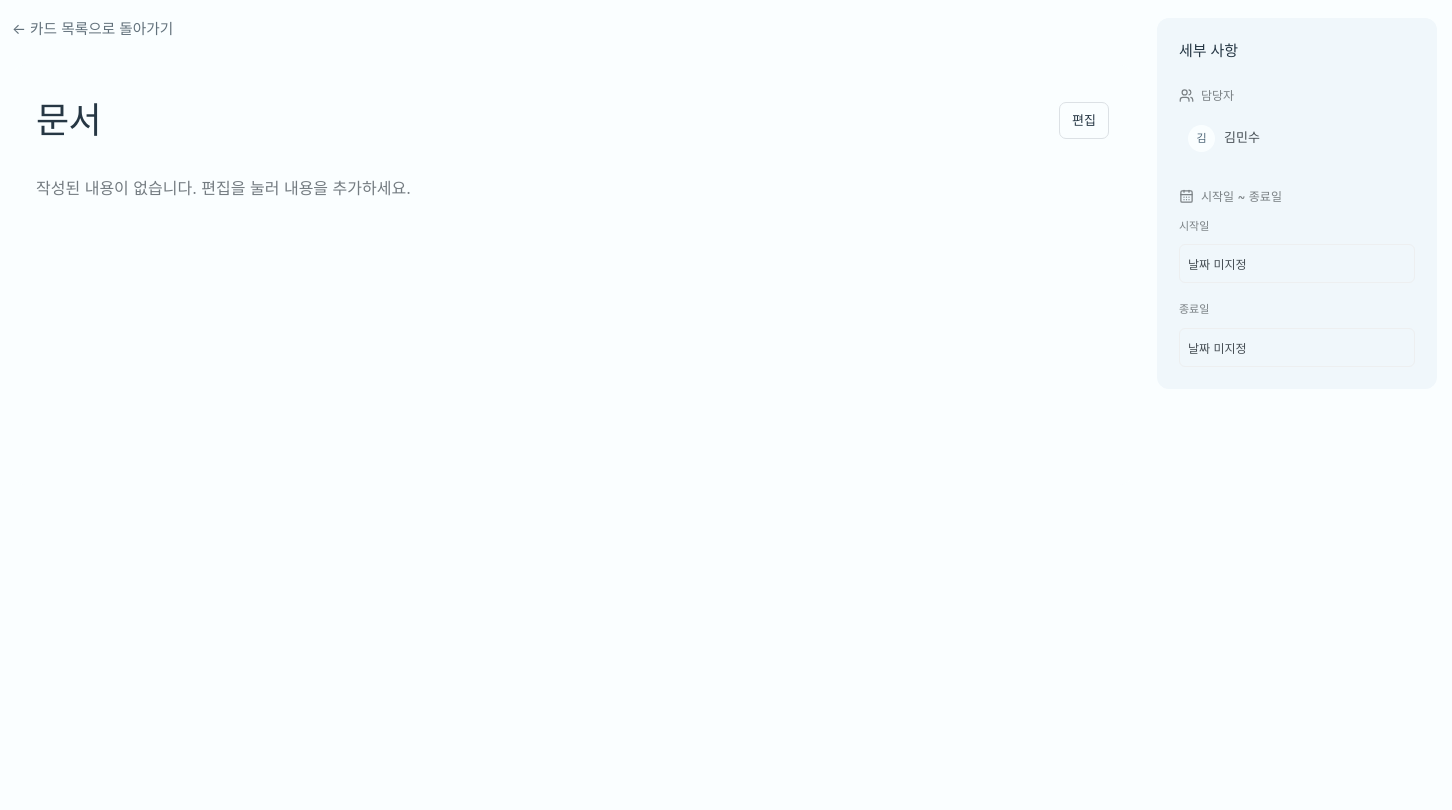
Test: markdown_editor › cmd_b_toggles_selection_and_cmd_e_inserts_backticks_ok
The width and height of the screenshot is (1452, 810).
Click the button "편집" at (1084, 120), box x1=1059 y1=102 x2=1109 y2=139
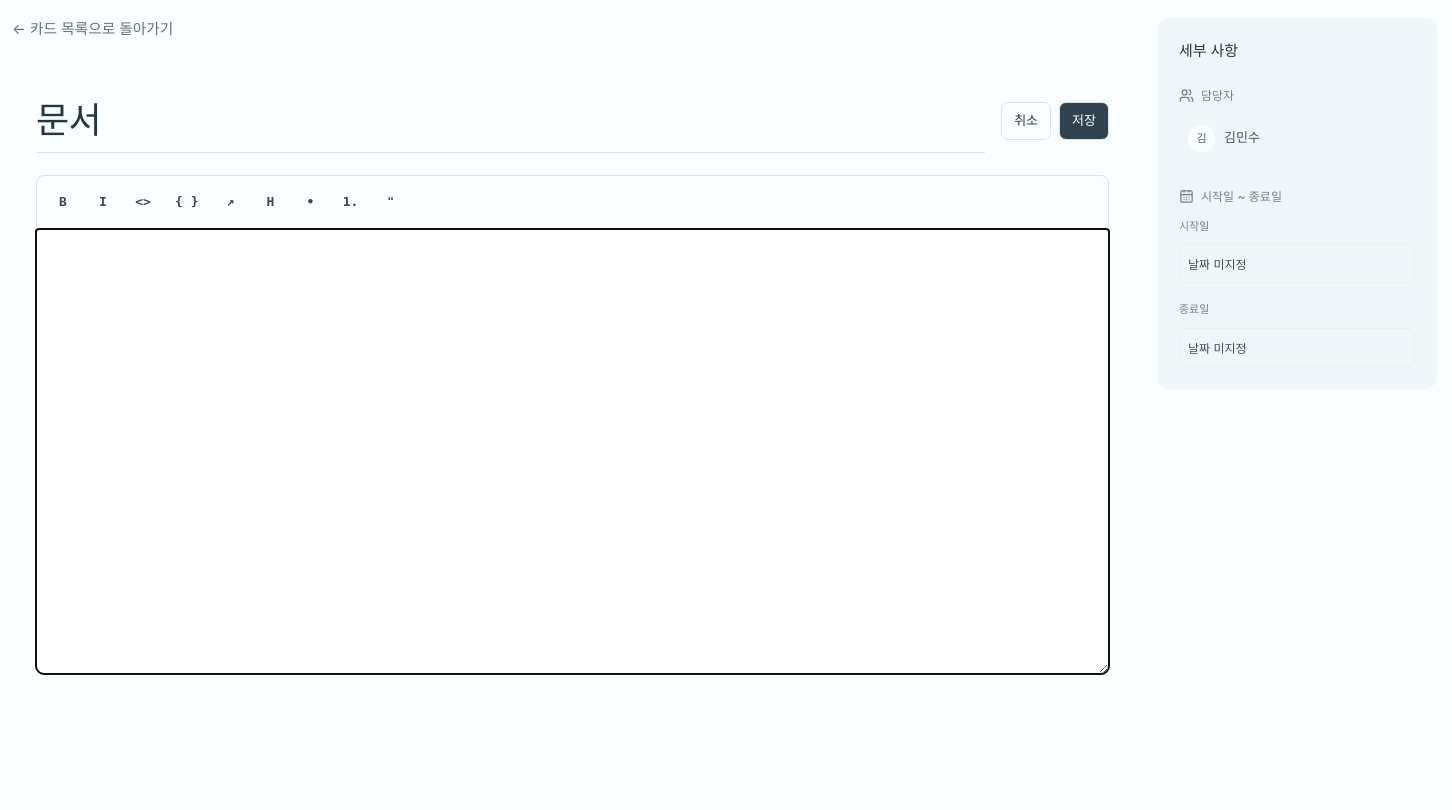
Type "선택 내용" into the text box named "Markdown 작성" at (572, 452), box x1=36 y1=229 x2=1109 y2=674
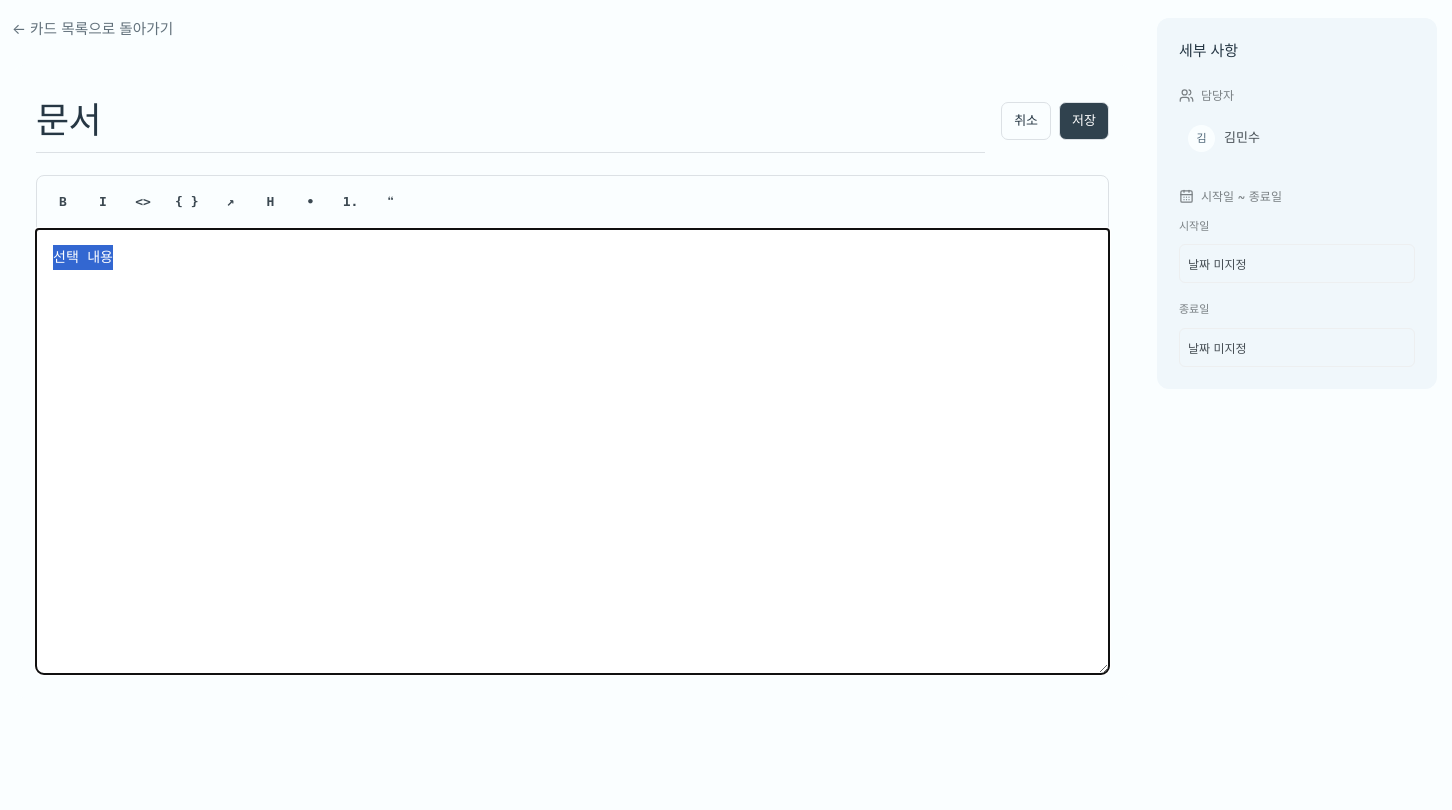
Type keys "{Meta>}b{/Meta}"
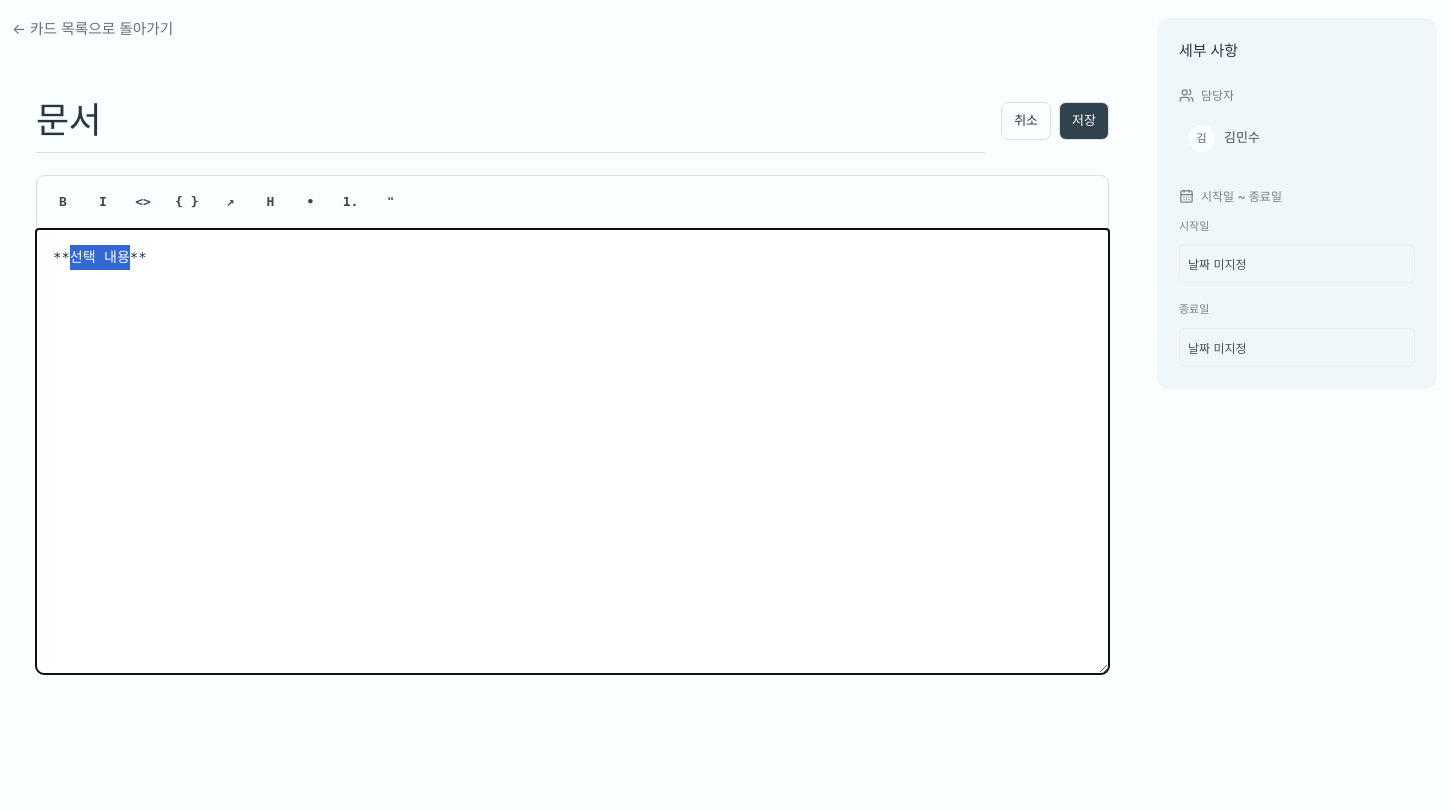
Now the text box named "Markdown 작성" holds "**선택 내용**", box x1=36 y1=229 x2=1109 y2=674
Type keys "{Meta>}b{/Meta}"
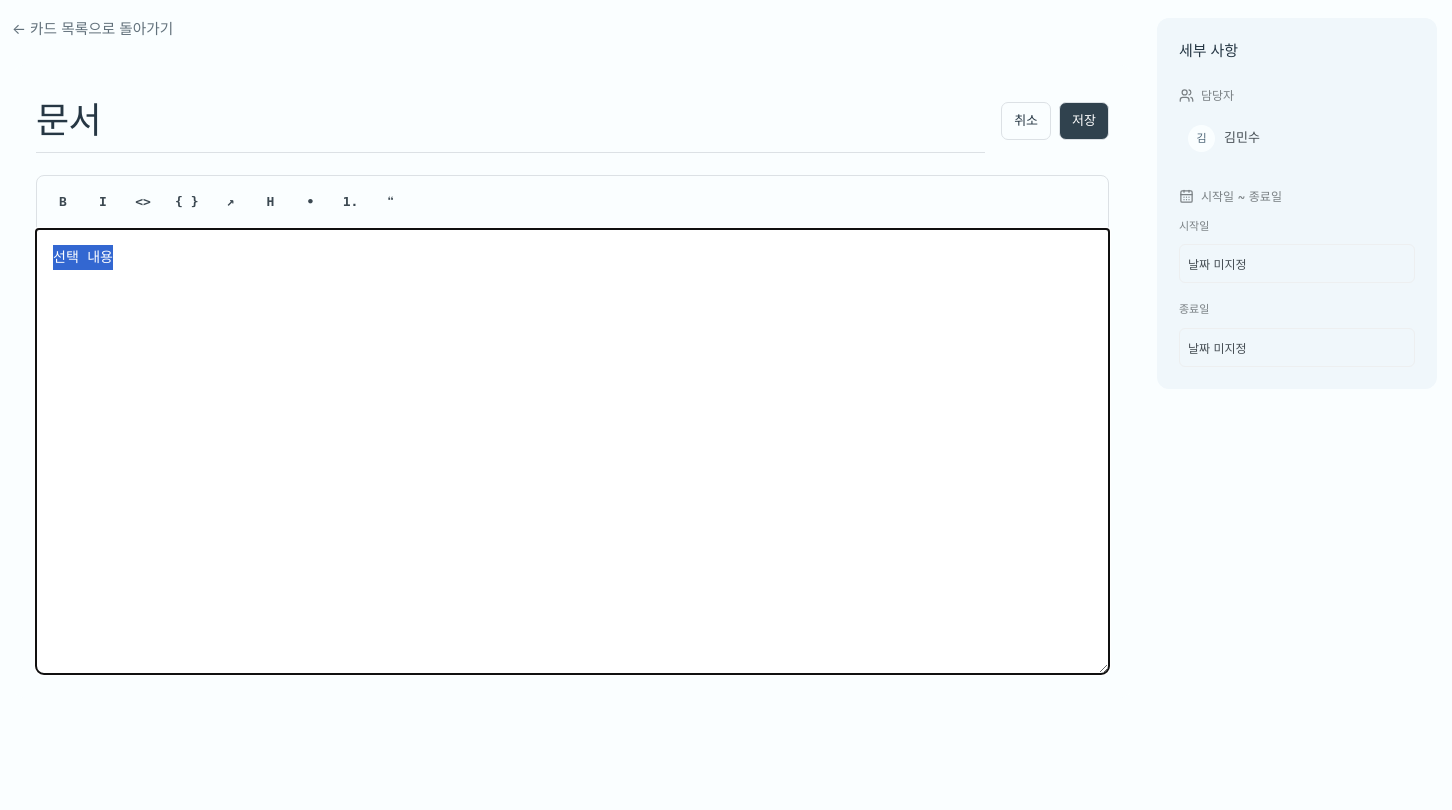
Type keys "{Meta>}e{/Meta}"
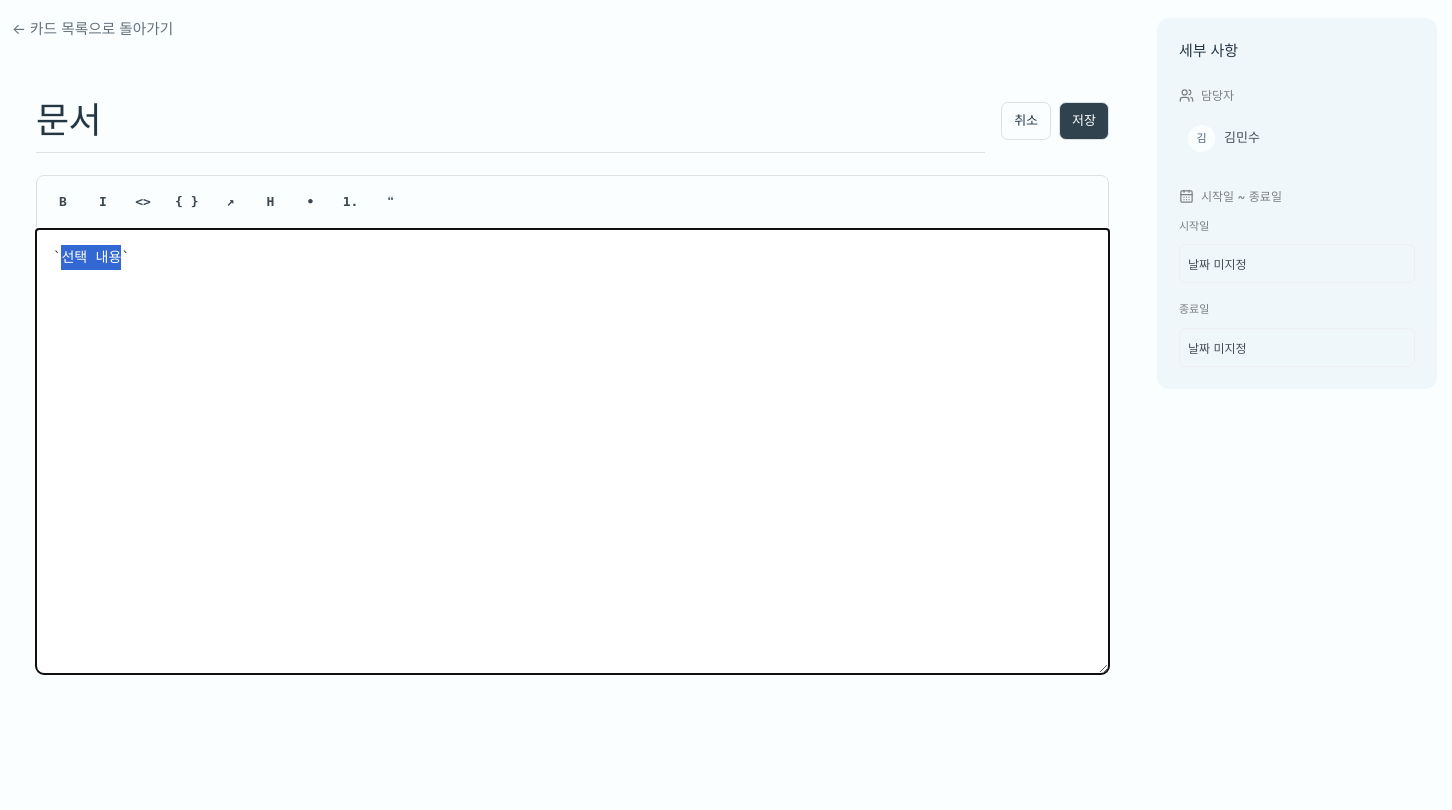
Now the text box named "Markdown 작성" holds "`선택 내용`", box x1=36 y1=229 x2=1109 y2=674
